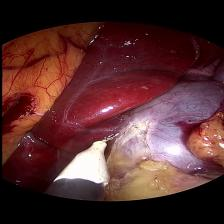Hook: (60, 132, 122, 182)
